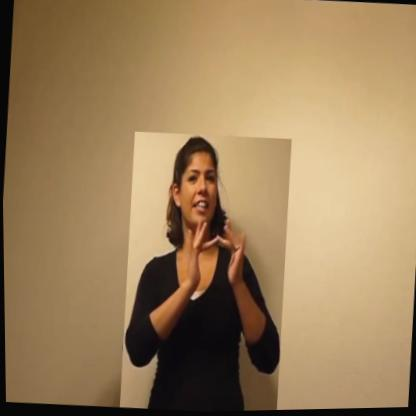Internet: (115, 129, 294, 414)
